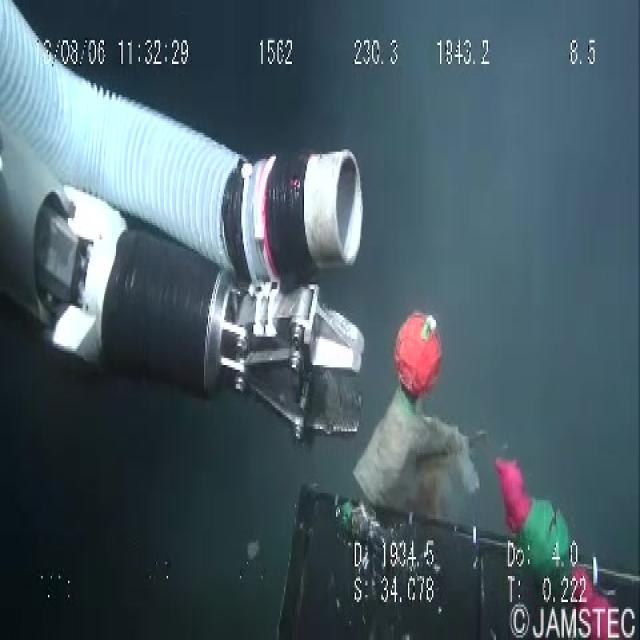plastic: (354, 379, 486, 531)
